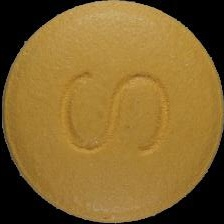52959-643: (0, 0, 224, 224)
